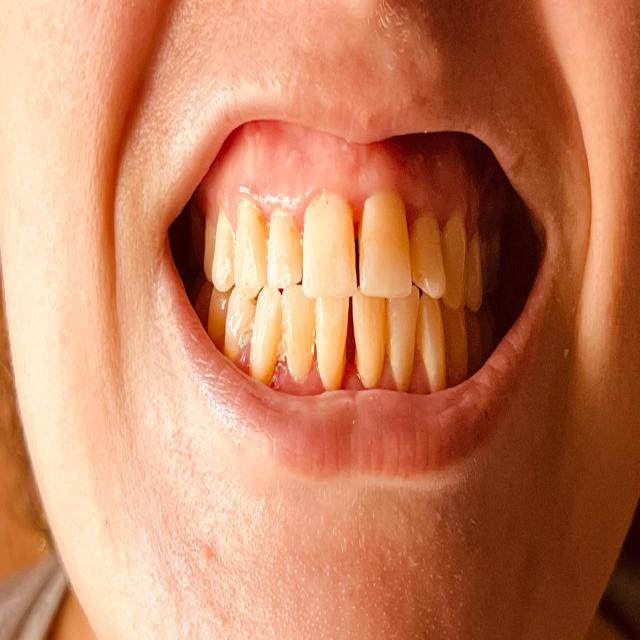tooth: (302, 194, 354, 376), (366, 211, 408, 295), (410, 221, 446, 296), (390, 289, 418, 381), (356, 296, 384, 381), (286, 290, 312, 378), (236, 212, 266, 287), (269, 210, 300, 282), (257, 290, 275, 381)
